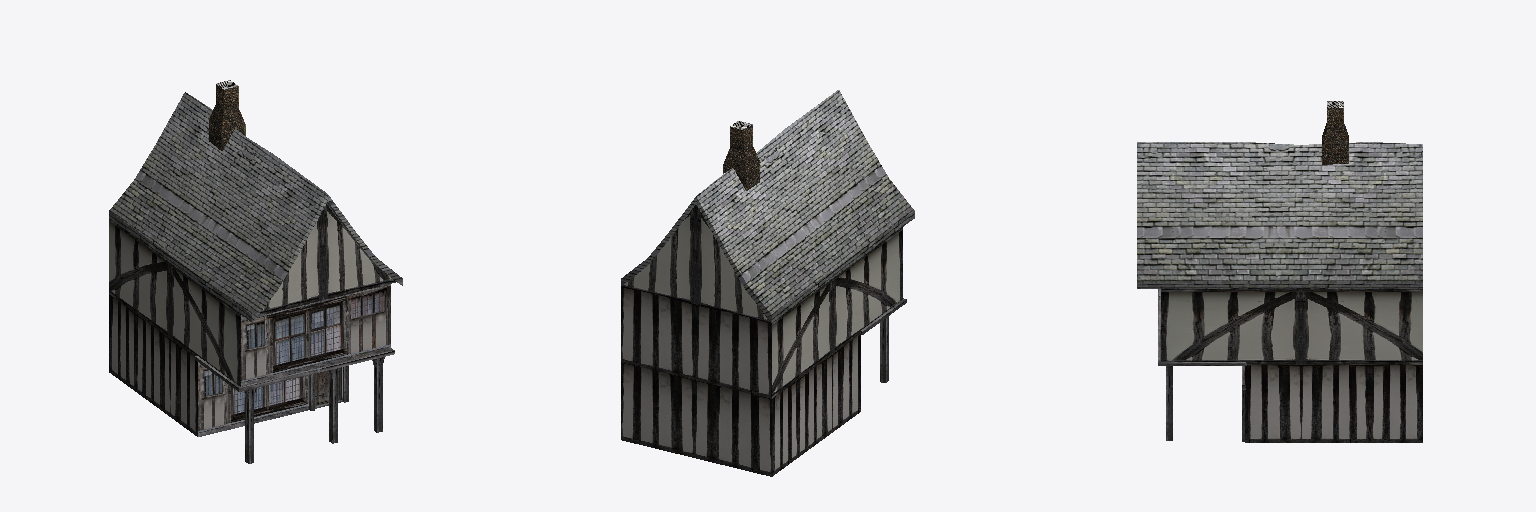
The picture shows the model from 3 angles: view 1: azimuth 30°, elevation 25°; view 2: azimuth 150°, elevation 25°; view 3: azimuth 270°, elevation 25°; orthographic projection.
Visible parts, largest first — view 1: __Form6, __Group2_Form9, __Form8; view 2: __Form6, __Form8, __Group2_Form9; view 3: __Form6, __Form8.
Boxes of the visible parts, box(x1,y1,x2,y2) form: __Form6: box(109, 92, 402, 436); __Group2_Form9: box(245, 357, 382, 463); __Form8: box(209, 80, 245, 150); __Form6: box(621, 90, 914, 476); __Form8: box(723, 121, 759, 190); __Group2_Form9: box(880, 317, 888, 382); __Form6: box(1137, 142, 1422, 442); __Form8: box(1322, 101, 1348, 164).
Bounding box in the file's own units: 233 × 431 × 369.
Materials: 1 (1 with a texture image).